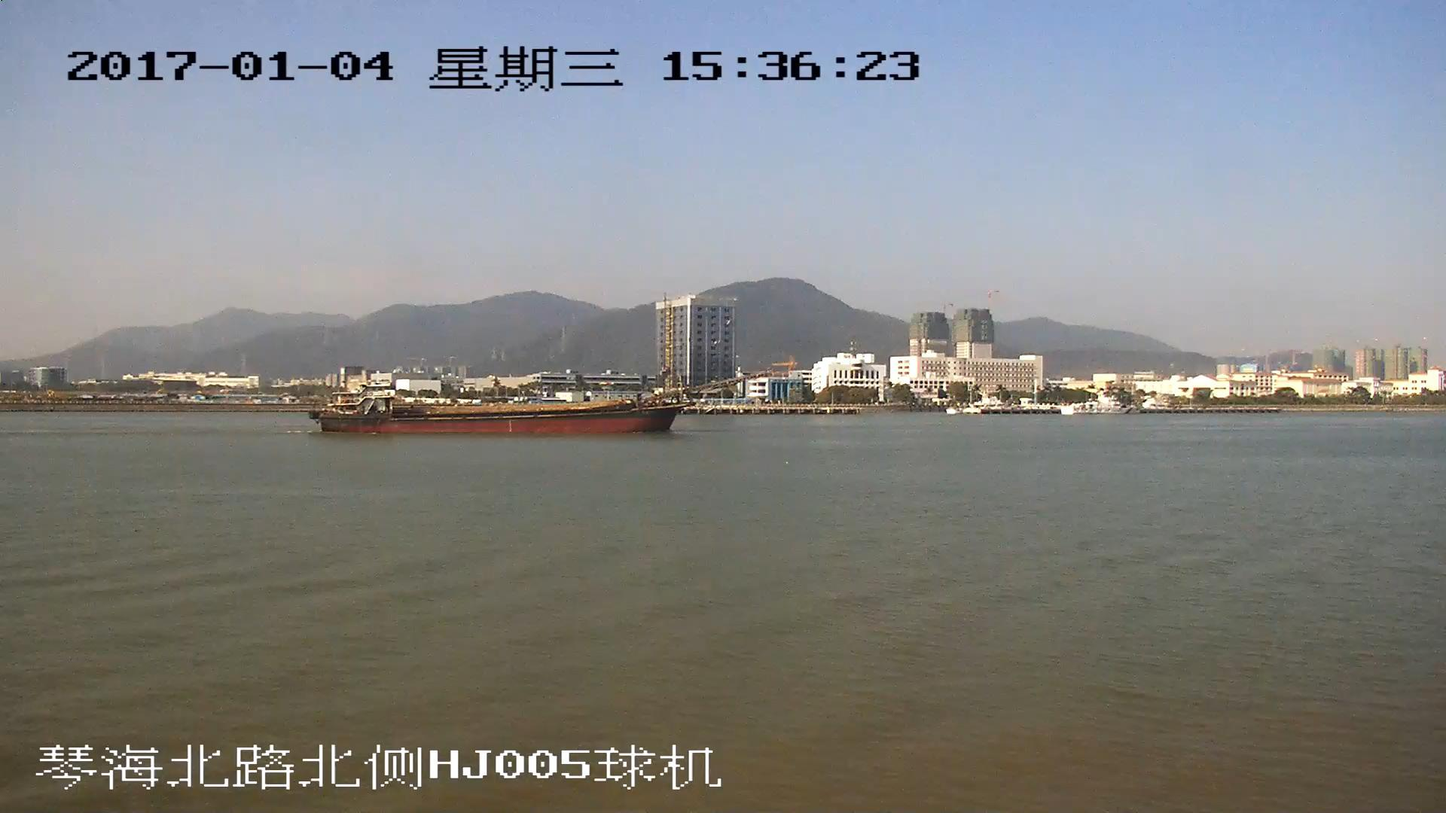bulk cargo carrier: (313, 368, 768, 431)
